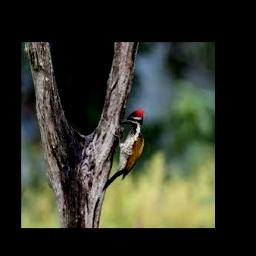Woodpecker: (102, 110, 144, 190)
